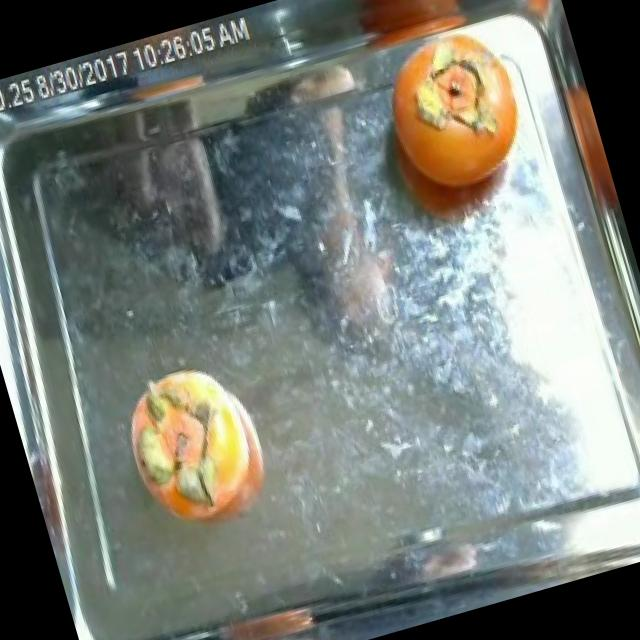Fruit: (102, 340, 286, 544), (333, 0, 489, 57), (206, 577, 334, 640), (497, 0, 570, 44)
